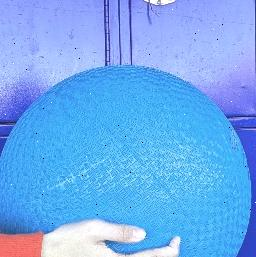algae: (0, 68, 246, 257)
